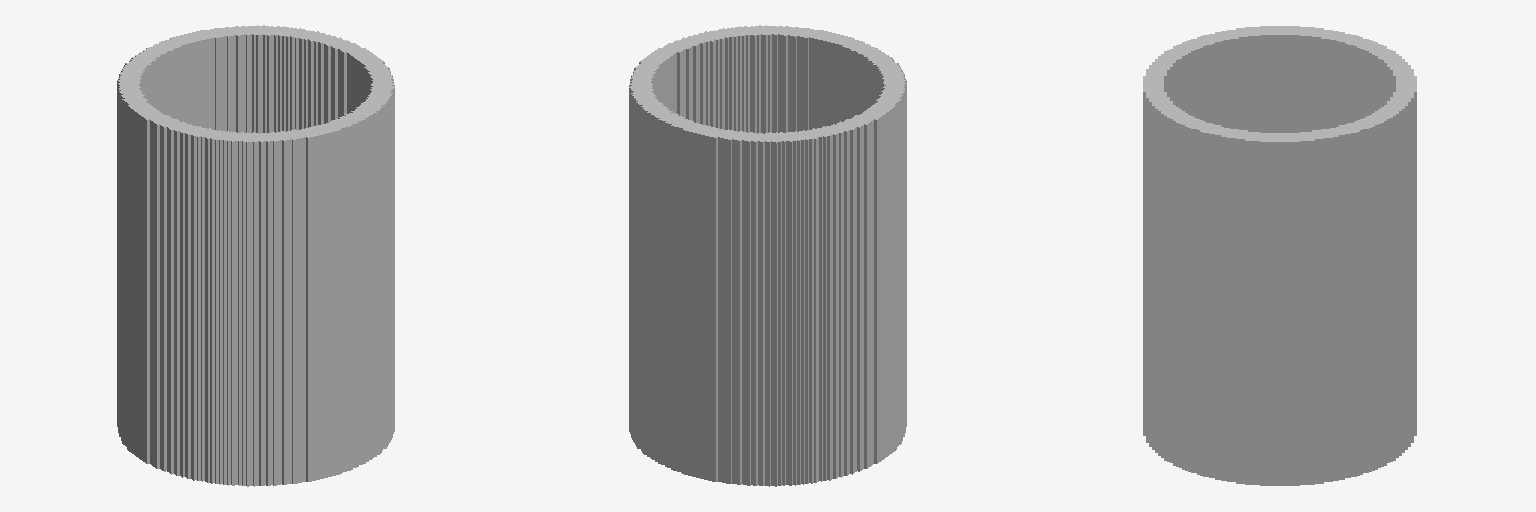
Rendered from Dop-10.obj.
The picture shows the model from 3 angles: view 1: azimuth 30°, elevation 25°; view 2: azimuth 150°, elevation 25°; view 3: azimuth 270°, elevation 25°; orthographic projection.
Parts seen in each view (by area): view 1: Dop-10; view 2: Dop-10; view 3: Dop-10.
Part boxes in pixels (x1,y1,x2,y2): Dop-10: (117, 25, 394, 486); Dop-10: (629, 25, 906, 486); Dop-10: (1143, 26, 1416, 485).
Size of the model in its own units: 91 by 126 by 91.